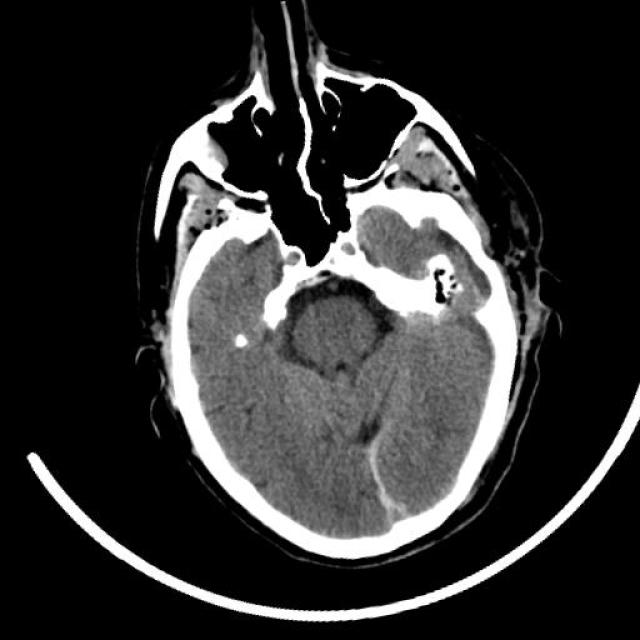Subdural: (320, 425, 442, 547)
